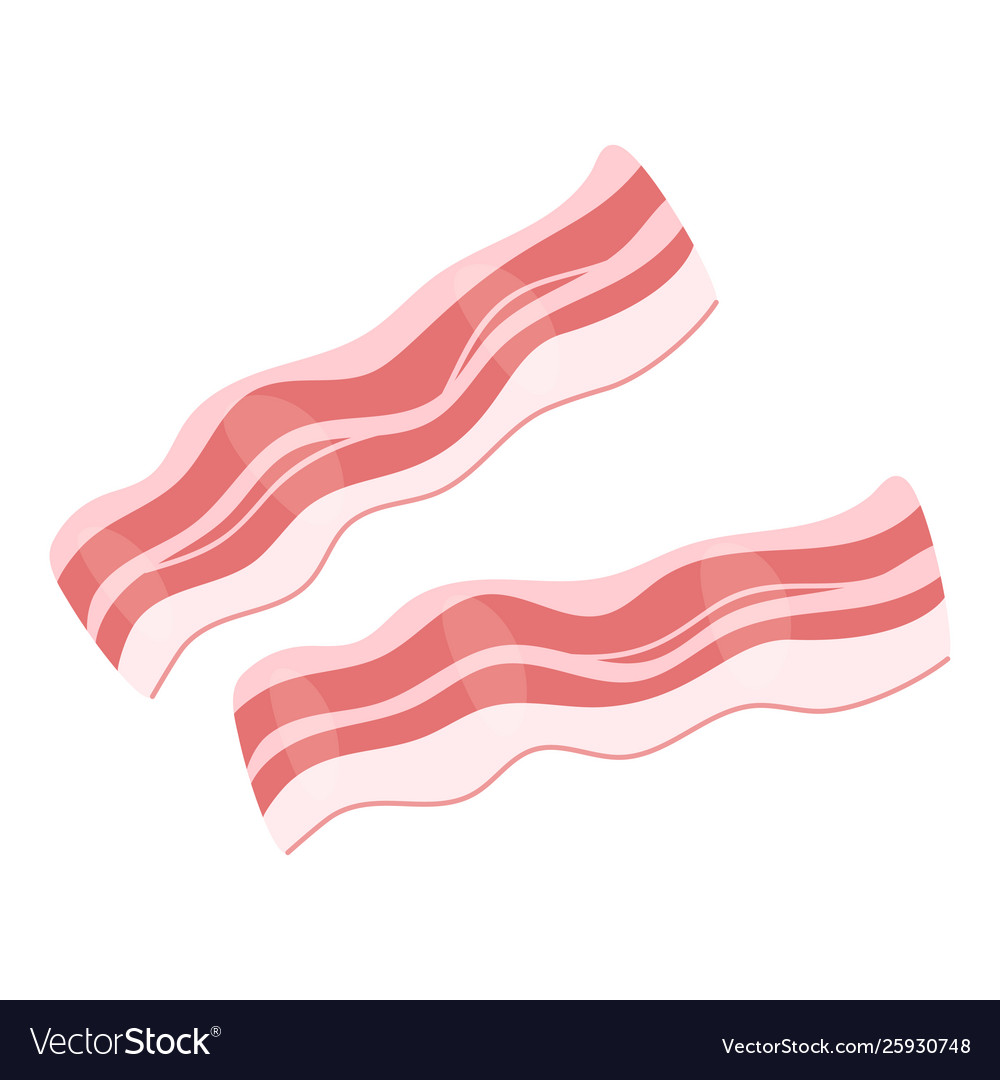bacon: (221, 414, 953, 877), (35, 169, 737, 649)
